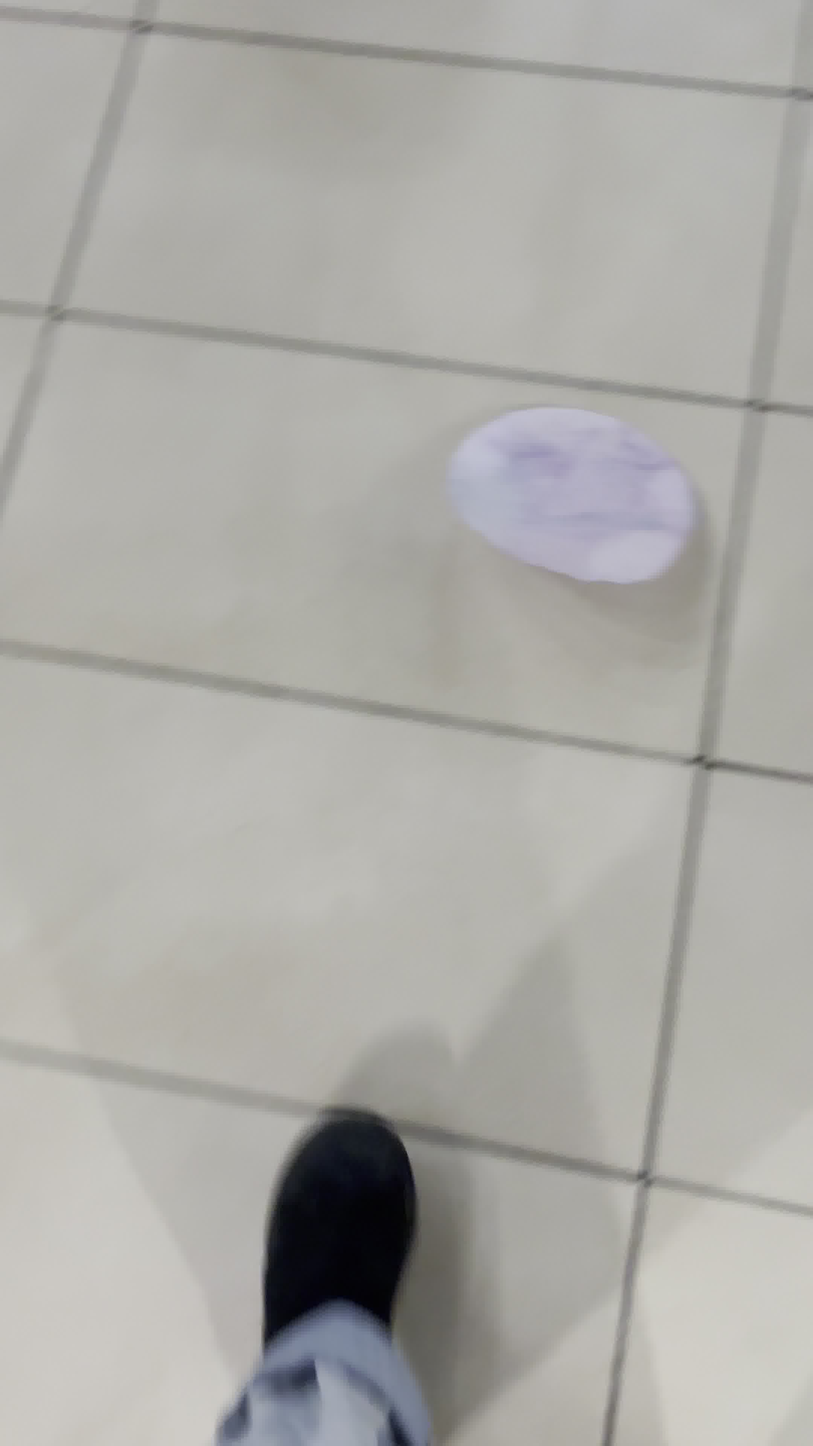Target: (426, 409, 703, 587)
